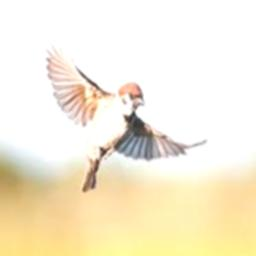Sparrow: (44, 35, 208, 192)
